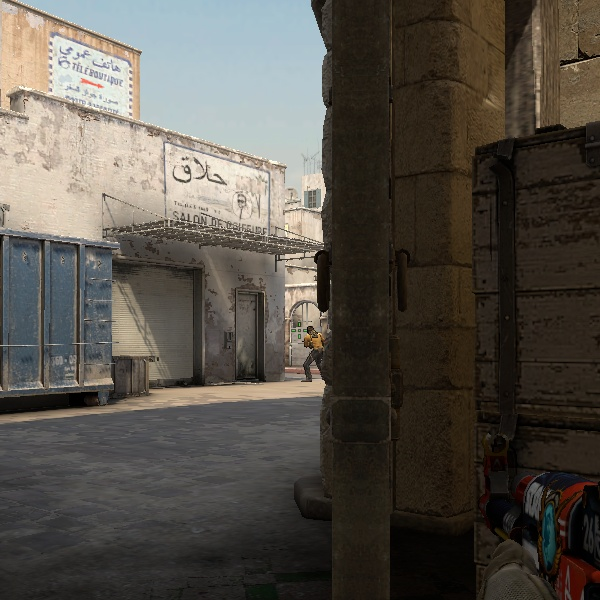t_body: (295, 322, 326, 382)
t_head: (303, 323, 318, 339)
